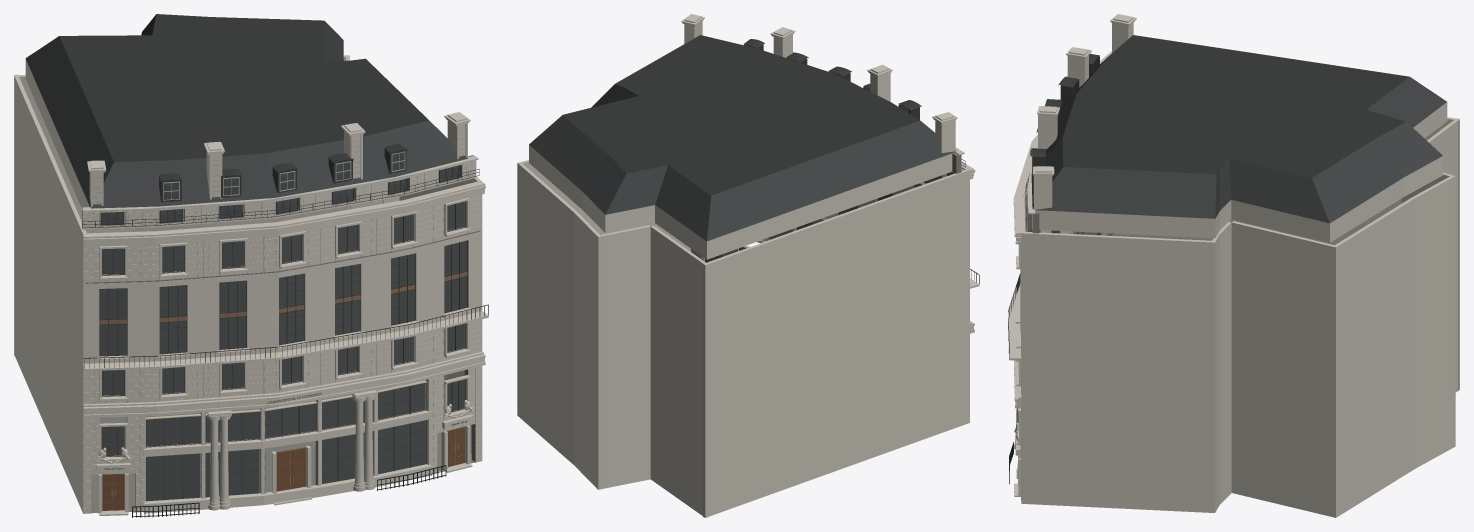
The model's file is clm-exterior-6a5083b1137e.glb.
3 views of the same model, side by side, from view 1: azimuth 30°, elevation 25°; view 2: azimuth 150°, elevation 25°; view 3: azimuth 270°, elevation 25° (orthographic). The views are drawn at different scales.
Visible parts, largest first — view 1: CLM.001; view 2: CLM.001; view 3: CLM.001.
Boxes of the visible parts, x1=… form: CLM.001: x1=14, y1=14, x2=488, y2=517; CLM.001: x1=517, y1=14, x2=979, y2=517; CLM.001: x1=1008, y1=14, x2=1459, y2=517.
Bounding box in the file's own units: 33.24 × 28.81 × 34.59.
